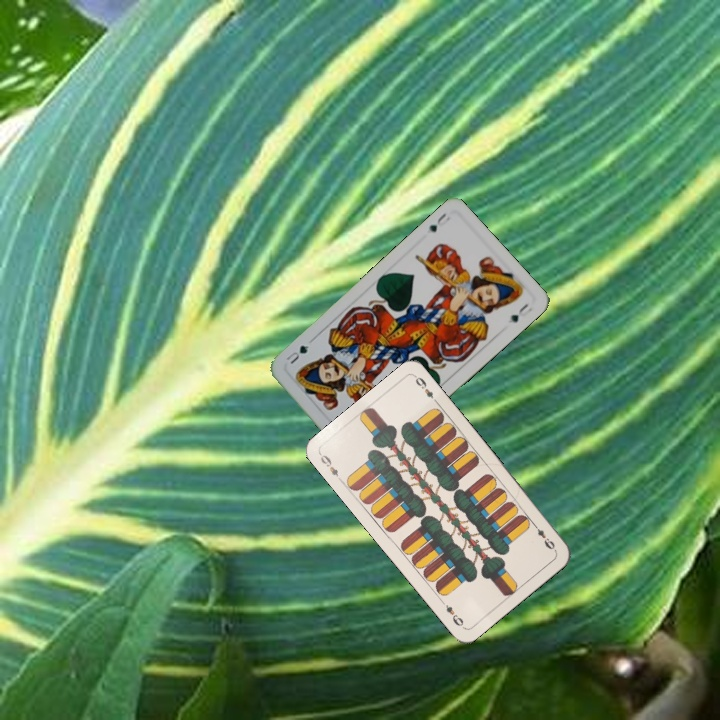E9: (316, 450, 345, 484), (529, 519, 558, 552)
GU: (424, 209, 453, 235)
